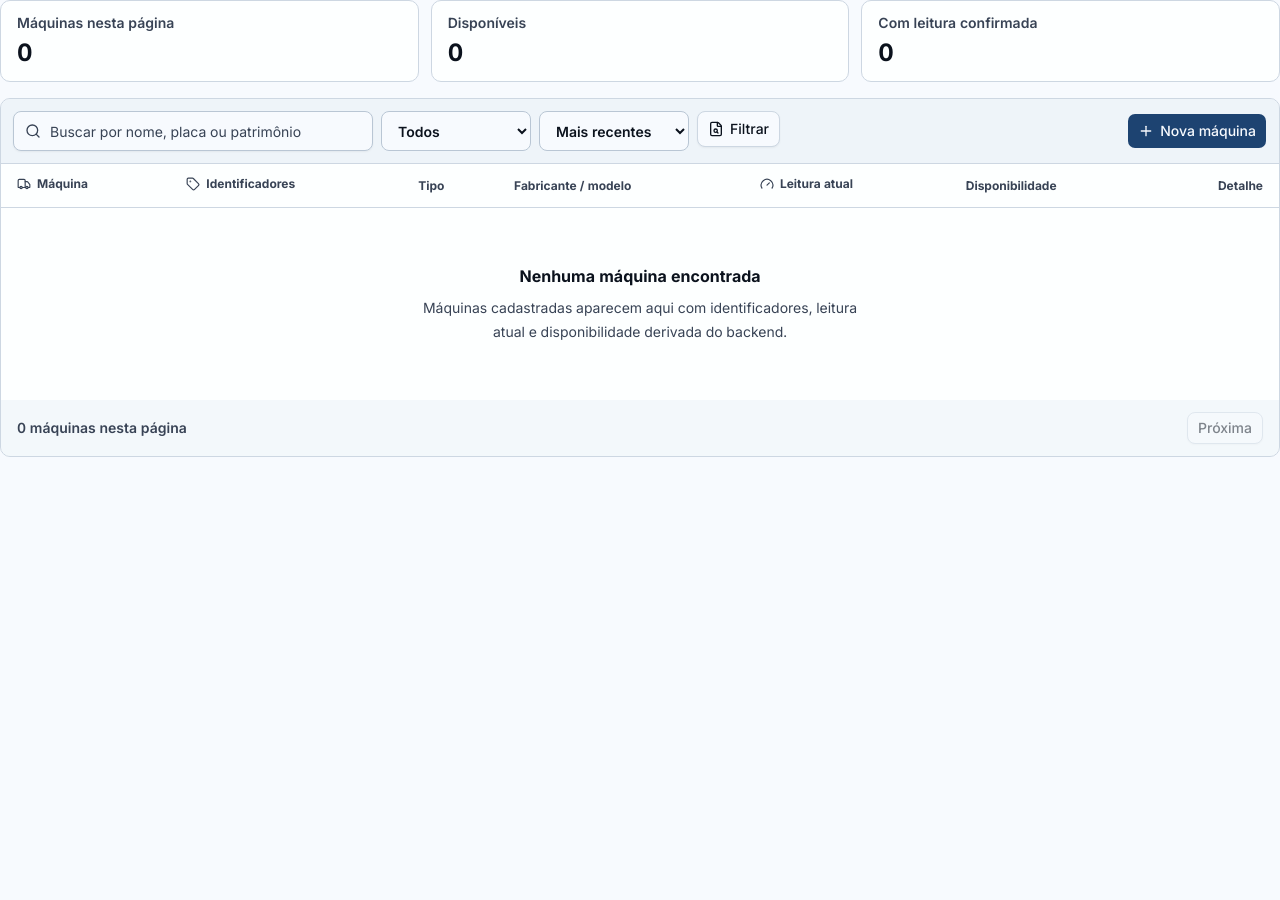
Test: MachinesPageView registration modal › disables the external submit action while the request is pending
Step 1. Click the button "Nova máquina" → (1197, 131), box [1127,113,1267,149]
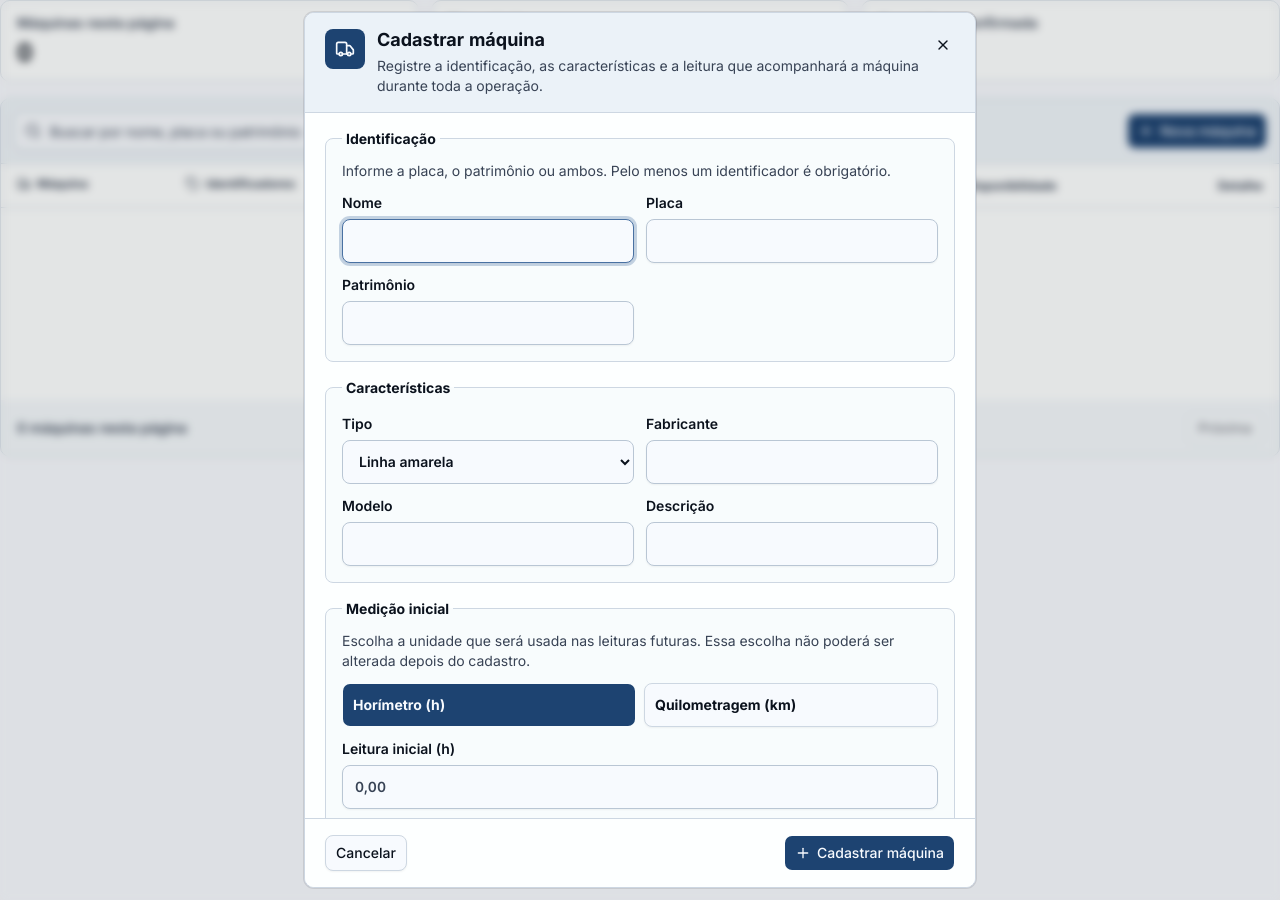
Step 2. Type "Escavadeira 02" into the field labelled "Nome" → (488, 240), box [342,218,634,262]
Step 3. Type "Synthetic" into the field labelled "Fabricante" → (792, 462), box [646,440,938,484]
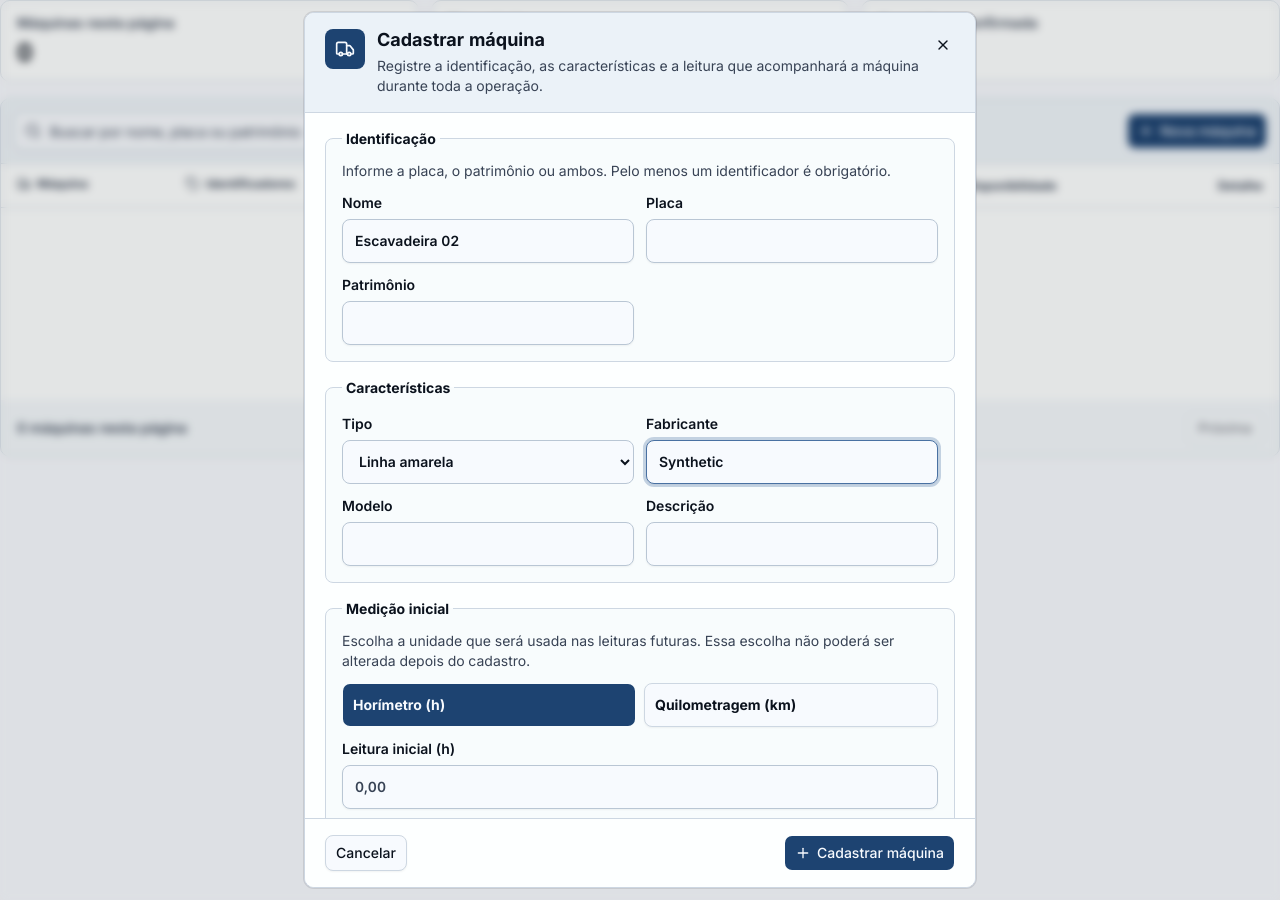
Step 4. Type "X2" into the field labelled "Modelo" → (488, 544), box [342,522,634,566]
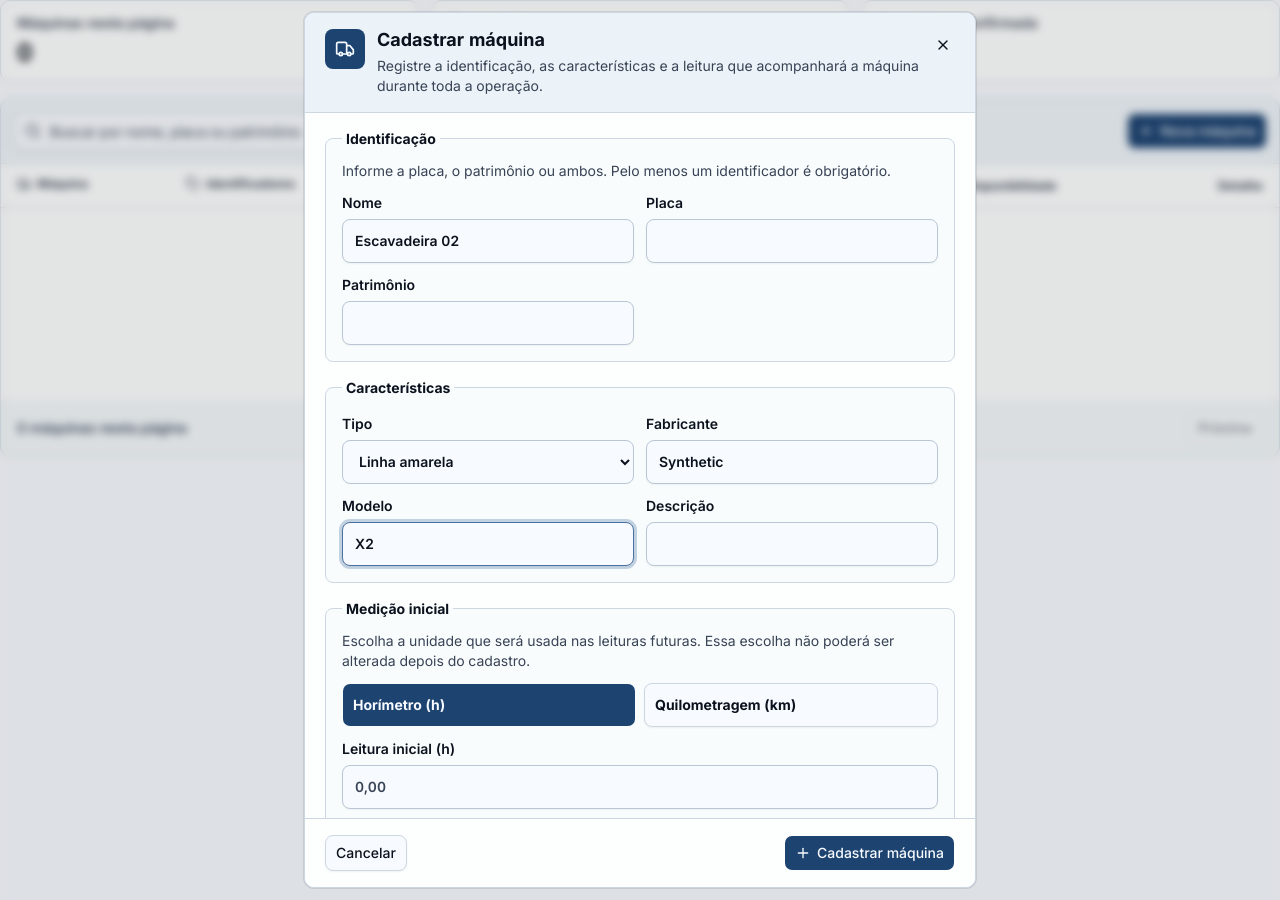
Step 5. Type "MCH-002" into the field labelled "Patrimônio" → (488, 322), box [342,300,634,344]
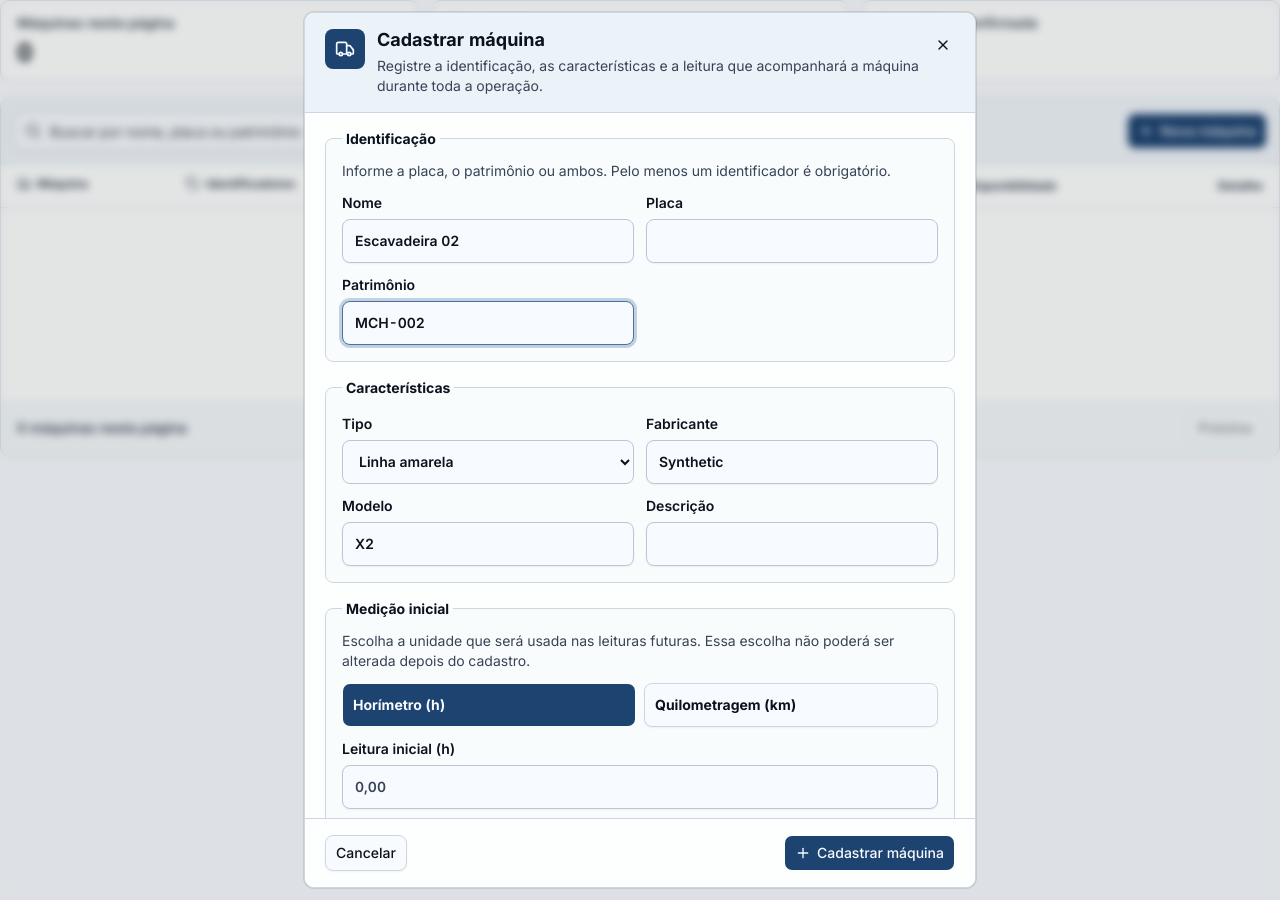
Step 6. Type "10" into the field labelled "Leitura inicial (h)" → (640, 786), box [342,764,938,808]
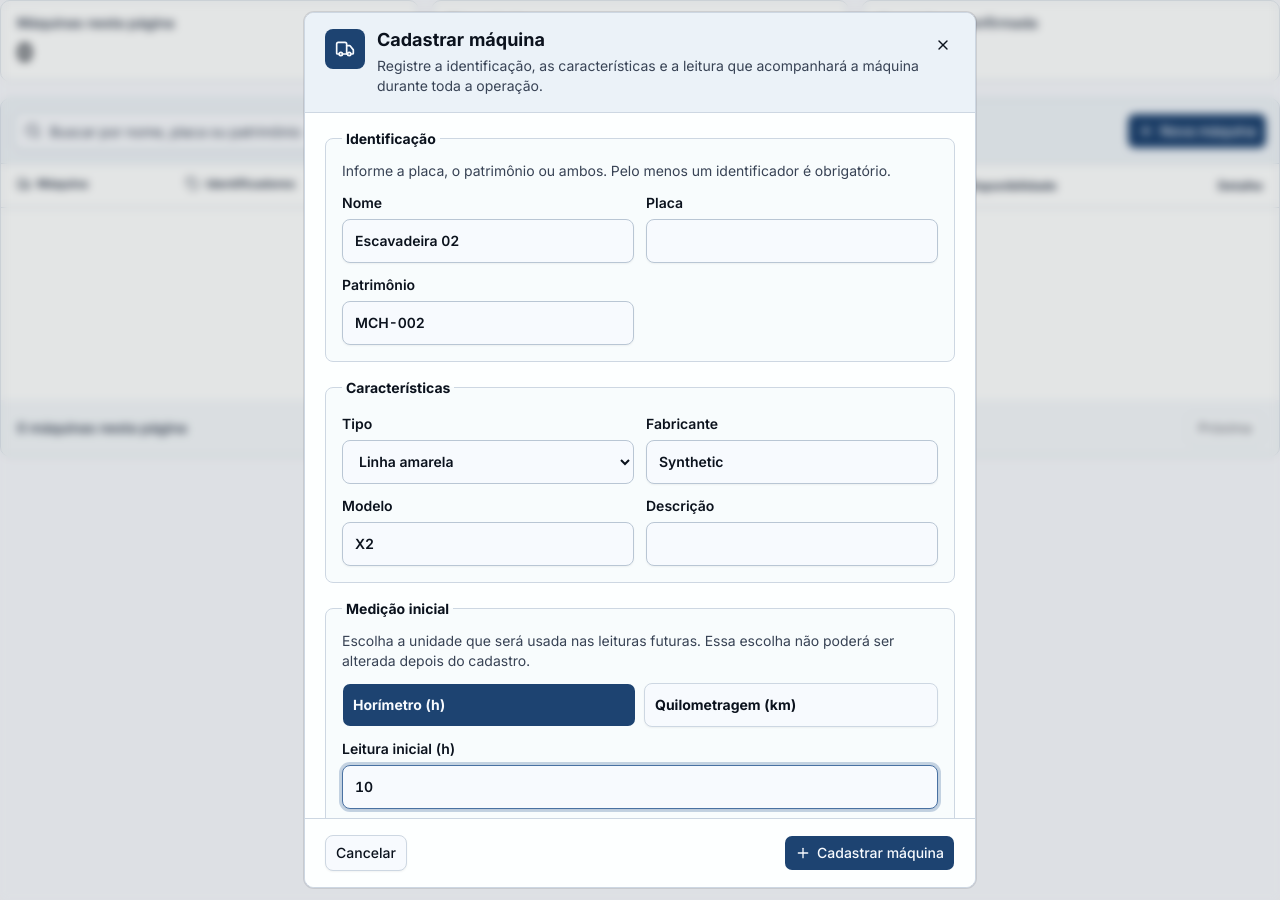
Step 7. Click the button "Cadastrar máquina" → (870, 853), box [784,835,955,871]
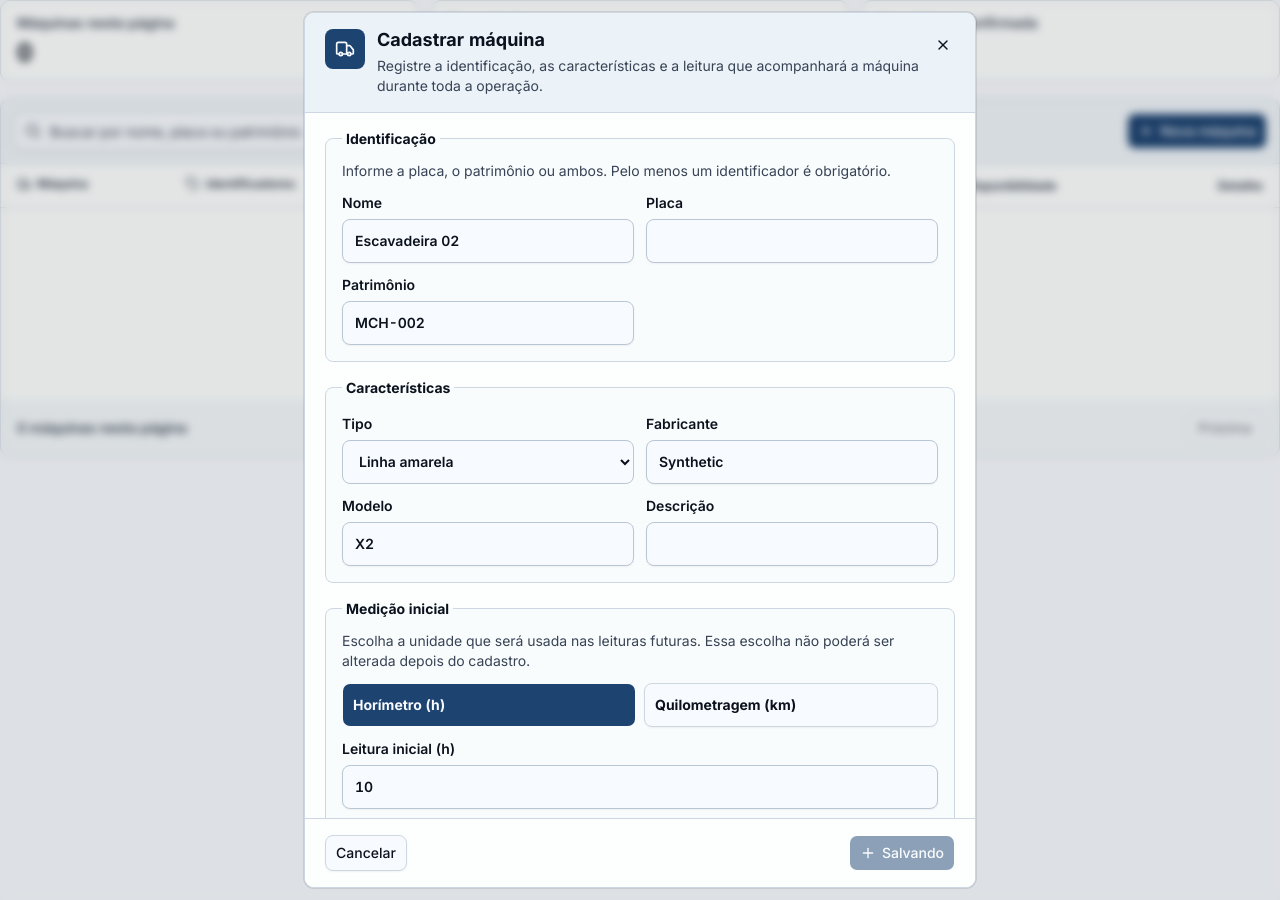
Now the button named "Cadastrar máquina" is disabled, box [849,835,955,871]
